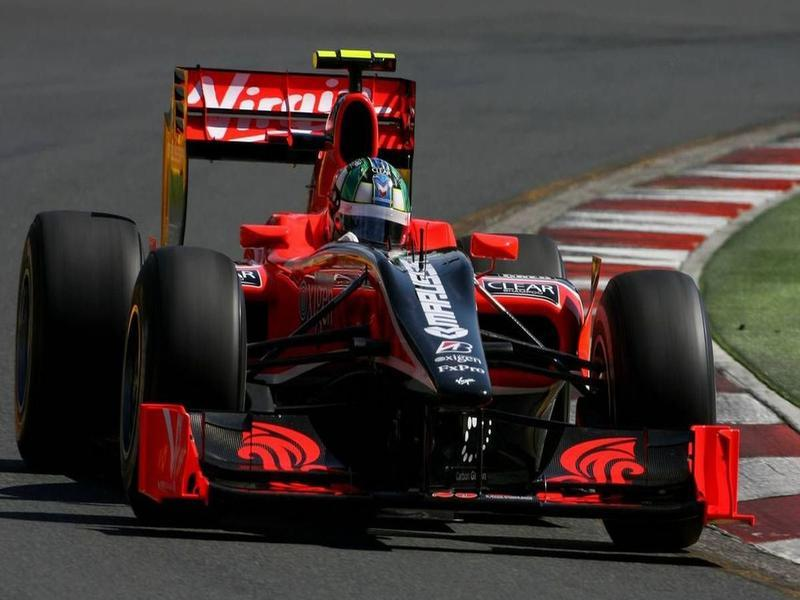f1: (25, 37, 744, 563)
